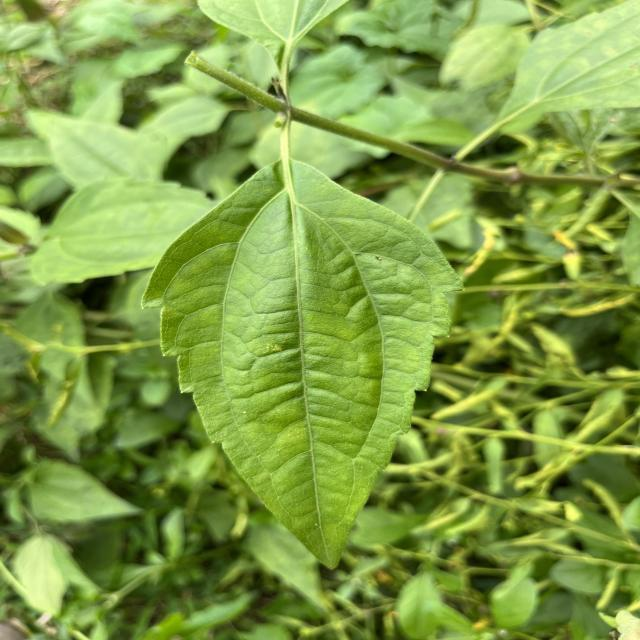Chromolaena odorata: (136, 154, 470, 576)
